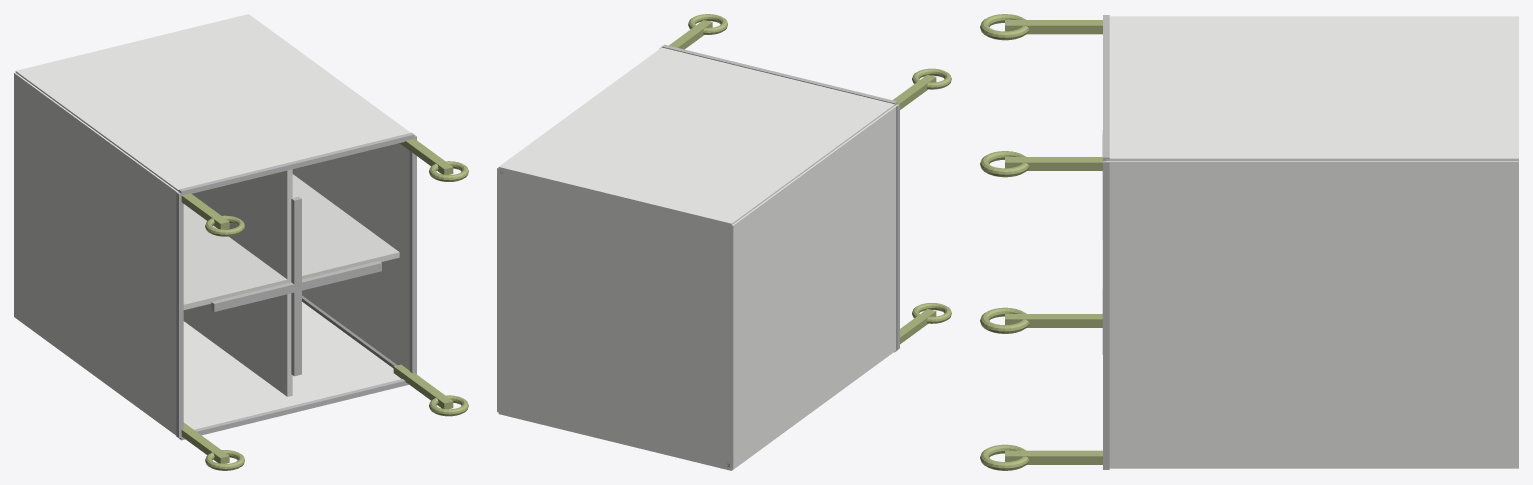
The model's file is bolson_compartimentado_fibc.glb.
3 views of the same model, side by side, from view 1: azimuth 30°, elevation 25°; view 2: azimuth 150°, elevation 25°; view 3: azimuth 270°, elevation 25° (orthographic). The views are drawn at different scales.
Visible parts, largest first — view 1: left_shell, back_shell, right_shell, front_shell, internal_partition_x, internal_partition_y, top_cross_x, top_left_rim, top_cross_y, top_back_rim, top_right_rim, top_front_rim (+9 smaller); view 2: bottom, left_shell, back_shell, top_left_rim, top_back_rim, front_shell, right_shell, loop_strap_2, loop_strap_0, loop_strap_3, loop_top_3, loop_top_2 (+1 smaller); view 3: right_shell, back_shell, top_right_rim, loop_strap_1, loop_strap_2, loop_strap_3, loop_strap_0, top_back_rim, front_shell, loop_top_1, loop_top_0, loop_top_2 (+1 smaller).
Boxes of the visible parts, x1,y1,x2,y2 form: left_shell: [14, 72, 178, 435]; back_shell: [15, 14, 410, 192]; right_shell: [292, 143, 409, 370]; front_shell: [33, 302, 401, 429]; internal_partition_x: [183, 169, 292, 396]; internal_partition_y: [183, 174, 399, 309]; top_cross_x: [211, 261, 381, 311]; top_left_rim: [176, 192, 183, 438]; top_cross_y: [291, 196, 301, 376]; top_back_rim: [178, 132, 414, 195]; top_right_rim: [409, 135, 416, 374]; top_front_rim: [179, 379, 408, 440]; bottom: [498, 169, 731, 466]; left_shell: [730, 105, 897, 469]; back_shell: [498, 47, 894, 226]; top_left_rim: [896, 104, 899, 350]; top_back_rim: [662, 44, 897, 105]; front_shell: [498, 351, 894, 470]; right_shell: [497, 167, 499, 412]; loop_strap_2: [893, 74, 936, 109]; loop_strap_0: [900, 309, 936, 344]; loop_strap_3: [669, 20, 712, 49]; loop_top_3: [688, 14, 727, 34]; loop_top_2: [912, 68, 951, 89]; right_shell: [1106, 161, 1518, 467]; back_shell: [1106, 16, 1518, 160]; top_right_rim: [1103, 161, 1109, 468]; loop_strap_1: [1005, 450, 1102, 464]; loop_strap_2: [1005, 20, 1102, 34]; loop_strap_3: [1005, 157, 1102, 170]; loop_strap_0: [1005, 314, 1102, 327]; top_back_rim: [1103, 15, 1109, 160]; front_shell: [1109, 467, 1518, 468]; loop_top_1: [980, 444, 1029, 470]; loop_top_0: [980, 307, 1029, 333]; loop_top_2: [980, 14, 1029, 40].
Bounding box in the file's own units: 0.998 × 0.918 × 1.44.
